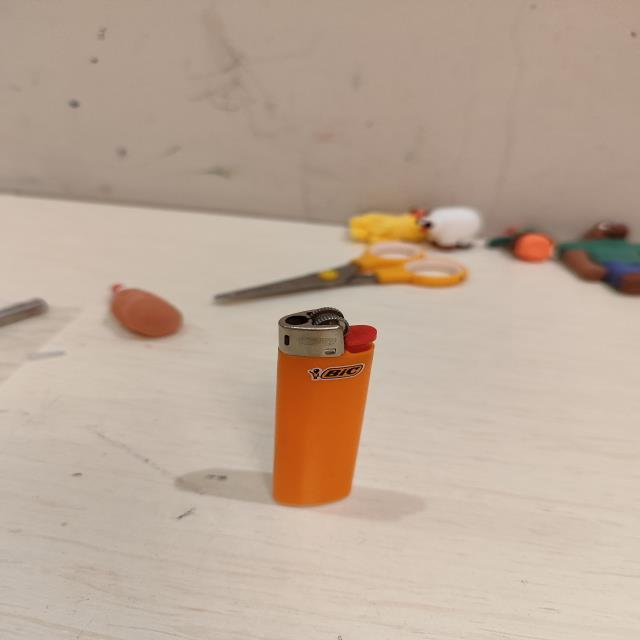lighter: (274, 307, 376, 505)
